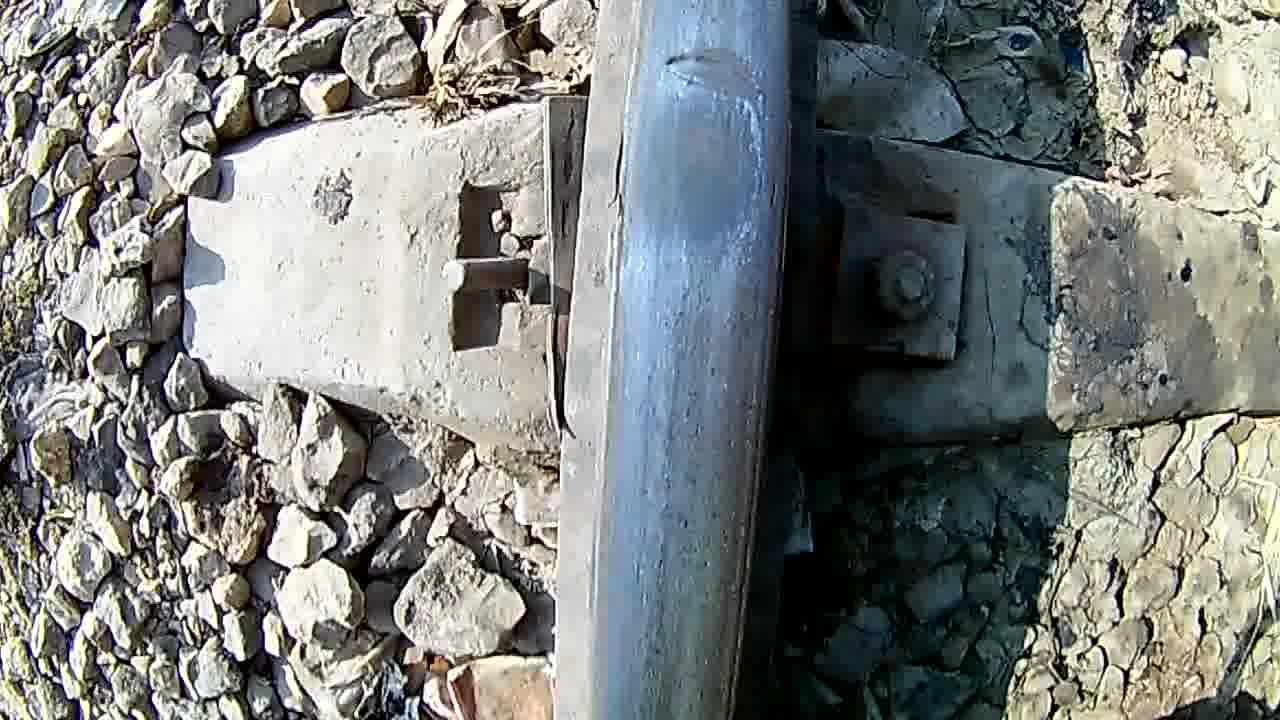bolt_missing: (584, 9, 794, 399)
